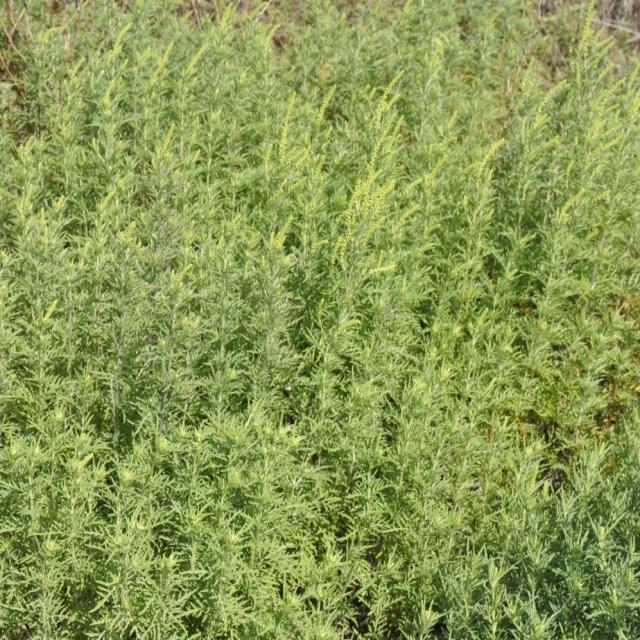ambrosia: (255, 67, 427, 319), (99, 420, 283, 640), (515, 0, 640, 240), (64, 10, 218, 204)
